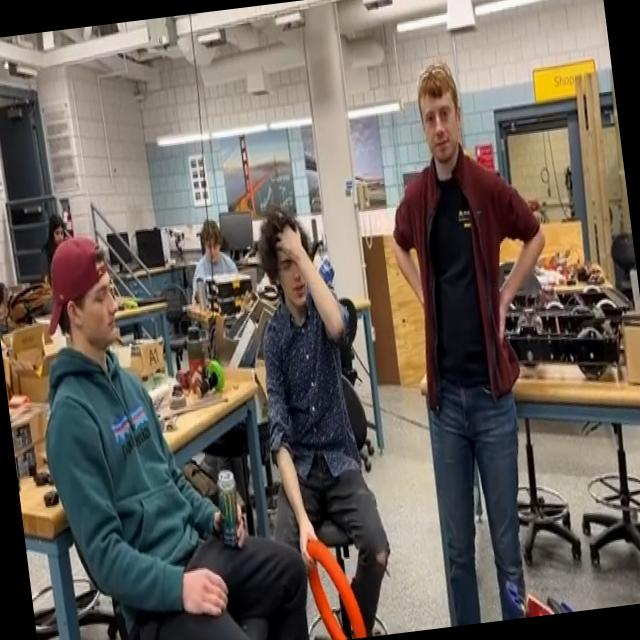note: (299, 526, 370, 640)
